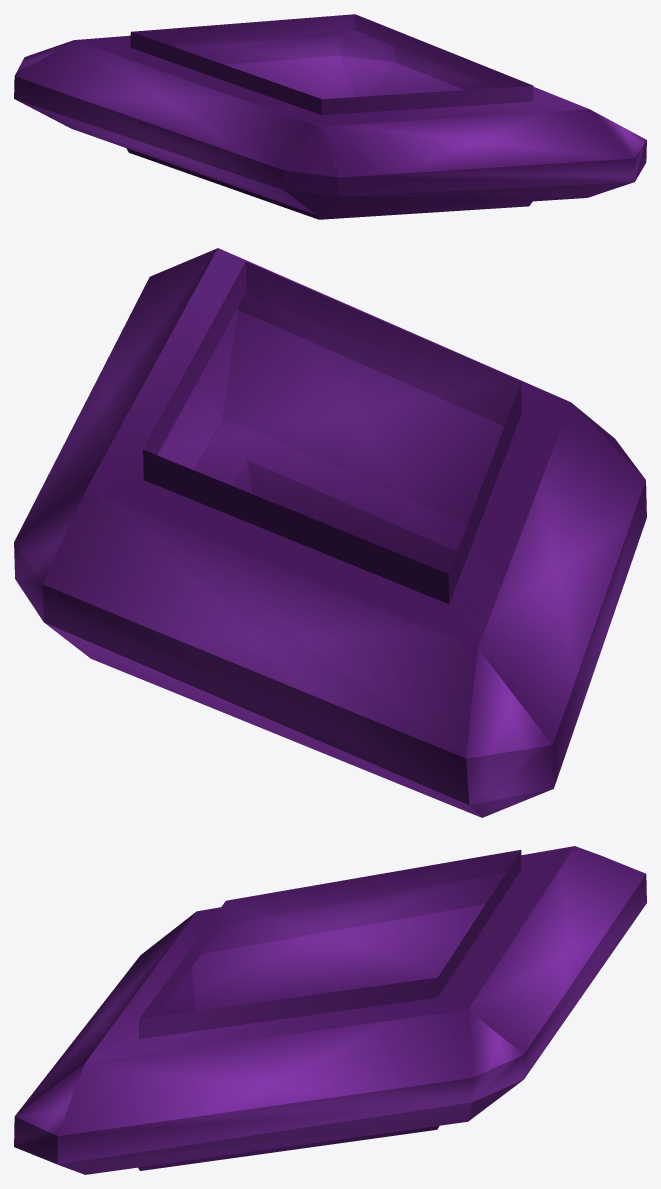
Rendered from Gem Purple.fbx.
3 renders of one model, top to bottom at view 1: azimuth 30°, elevation 25°; view 2: azimuth 150°, elevation 25°; view 3: azimuth 270°, elevation 25°, orthographic. The views are drawn at different scales.
Parts seen in each view (by area): view 1: pCube45; view 2: pCube45; view 3: pCube45.
Boxes of the visible parts, bbox=[...] form: pCube45: bbox=[14, 14, 646, 219]; pCube45: bbox=[14, 248, 646, 817]; pCube45: bbox=[14, 846, 646, 1174].
Size of the model in its own units: 0.7461 by 0.2151 by 0.7525.
2 materials, 2 textured.
